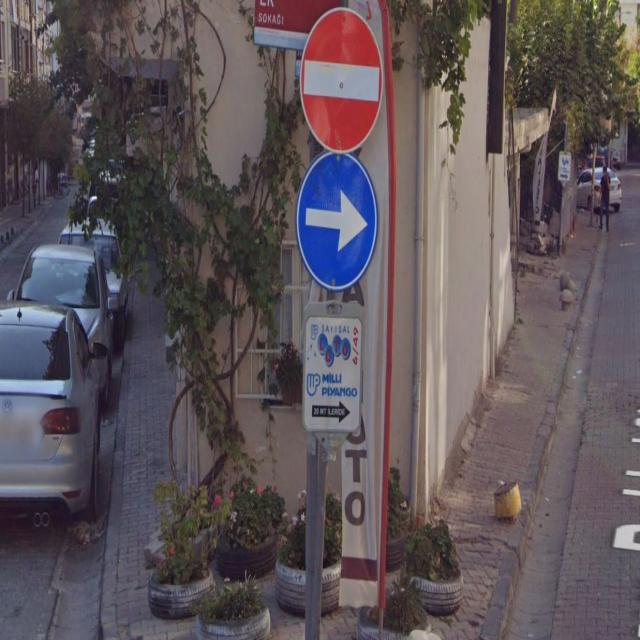girisyok: (300, 9, 382, 153)
sag: (294, 152, 378, 292)
